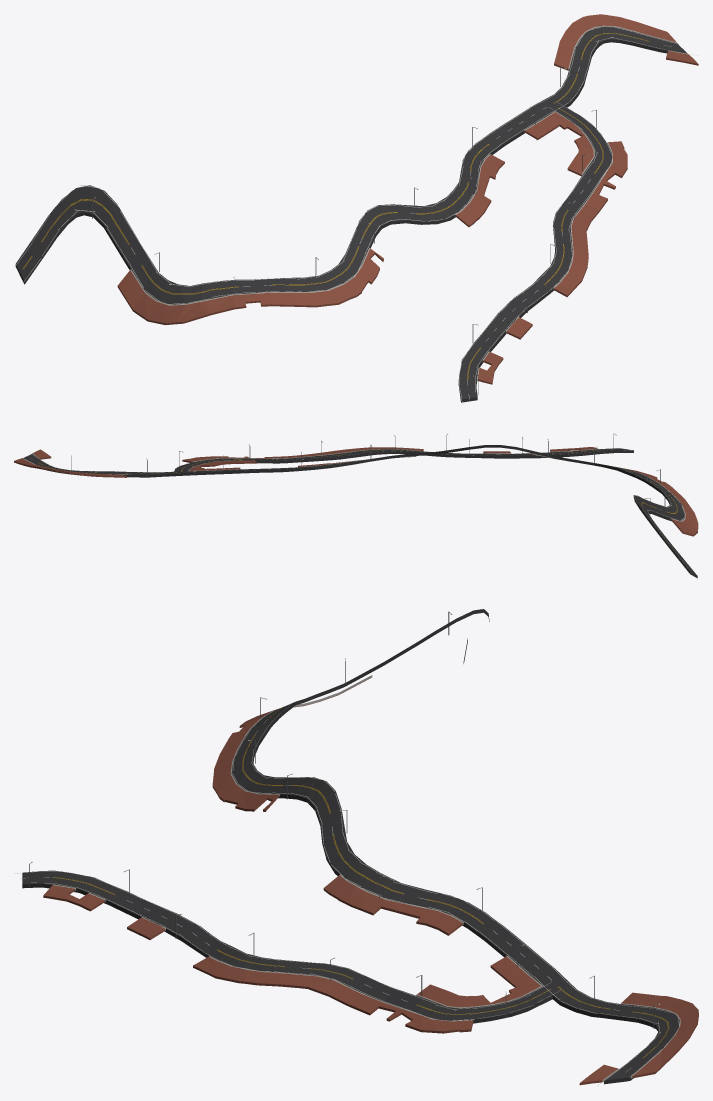
The model's file is 17-109441-59449.bcca9d00.glb.
3 renders of one model, top to bottom at view 1: azimuth 30°, elevation 25°; view 2: azimuth 150°, elevation 25°; view 3: azimuth 270°, elevation 25°, orthographic. The views are drawn at different scales.
Size of the model in its own units: 297 by 50.08 by 198.
